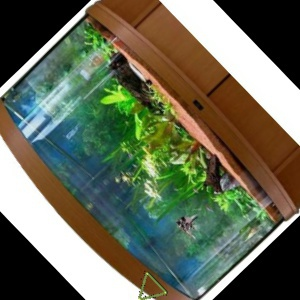triangle: (134, 268, 169, 300)
